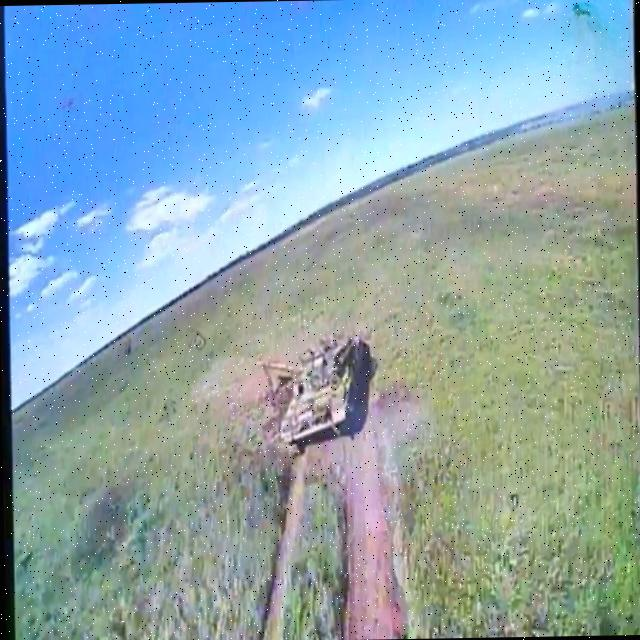MBT: (255, 333, 373, 452)
